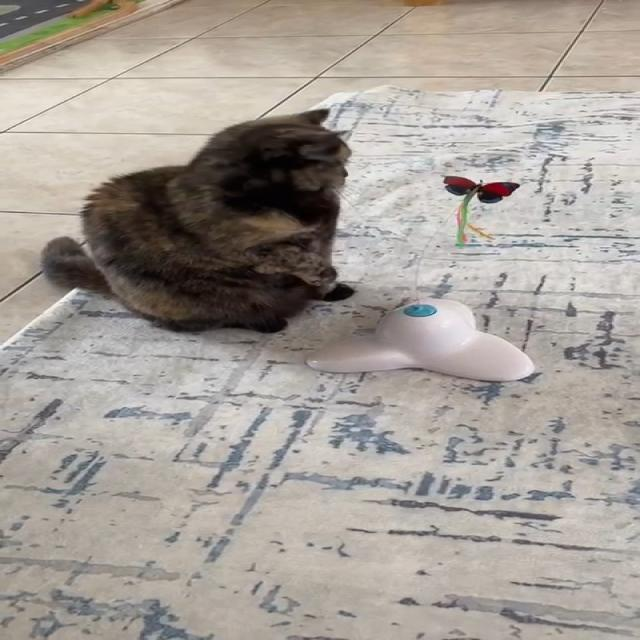authorized: (39, 107, 356, 334)
